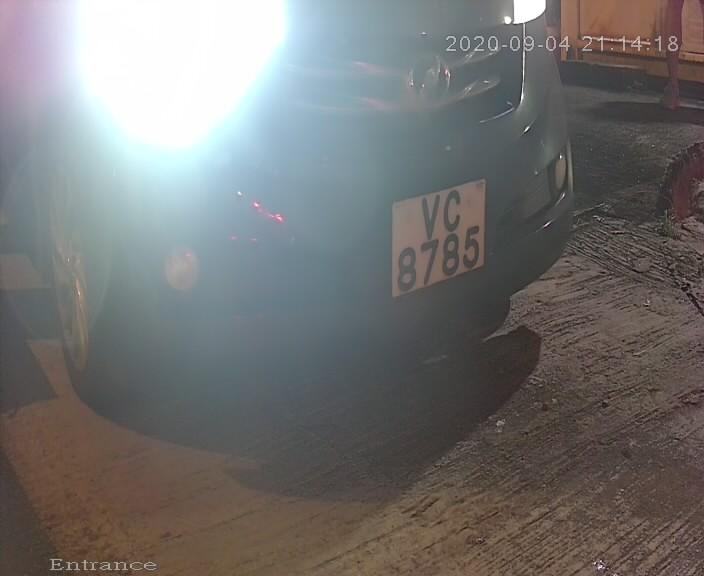License Plate: (387, 168, 491, 304)
